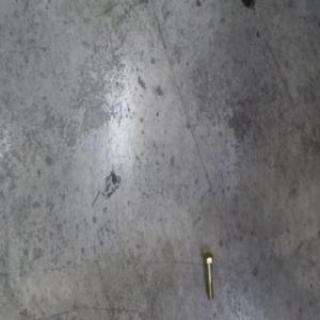Bolttrack_idkeyframe: (202, 250, 215, 301)
